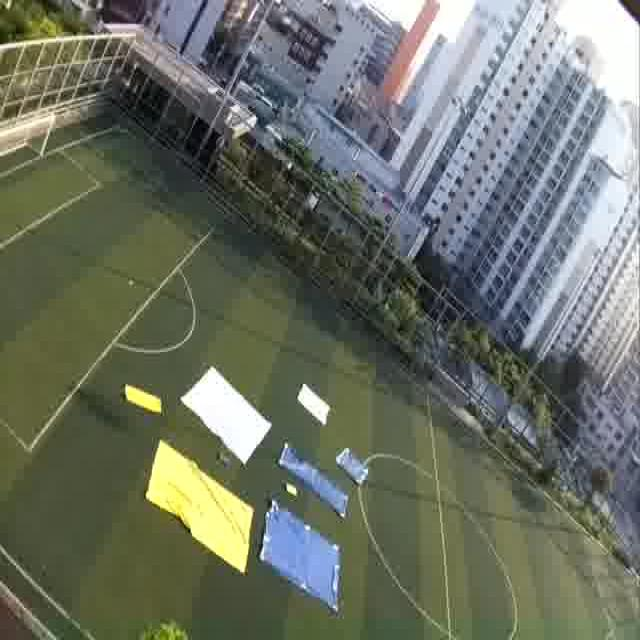danger: (267, 526, 340, 590), (332, 450, 368, 485), (283, 452, 323, 482)
safety: (197, 389, 255, 444), (298, 383, 332, 426)
warning: (156, 471, 237, 546), (123, 379, 166, 417)
